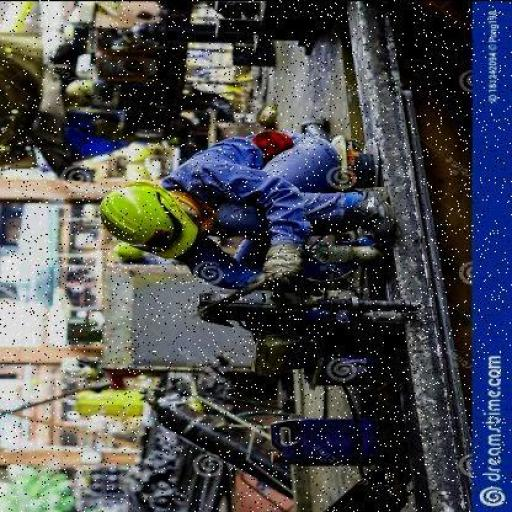person: (92, 110, 412, 322)
safety_shoe: (344, 180, 402, 237)
